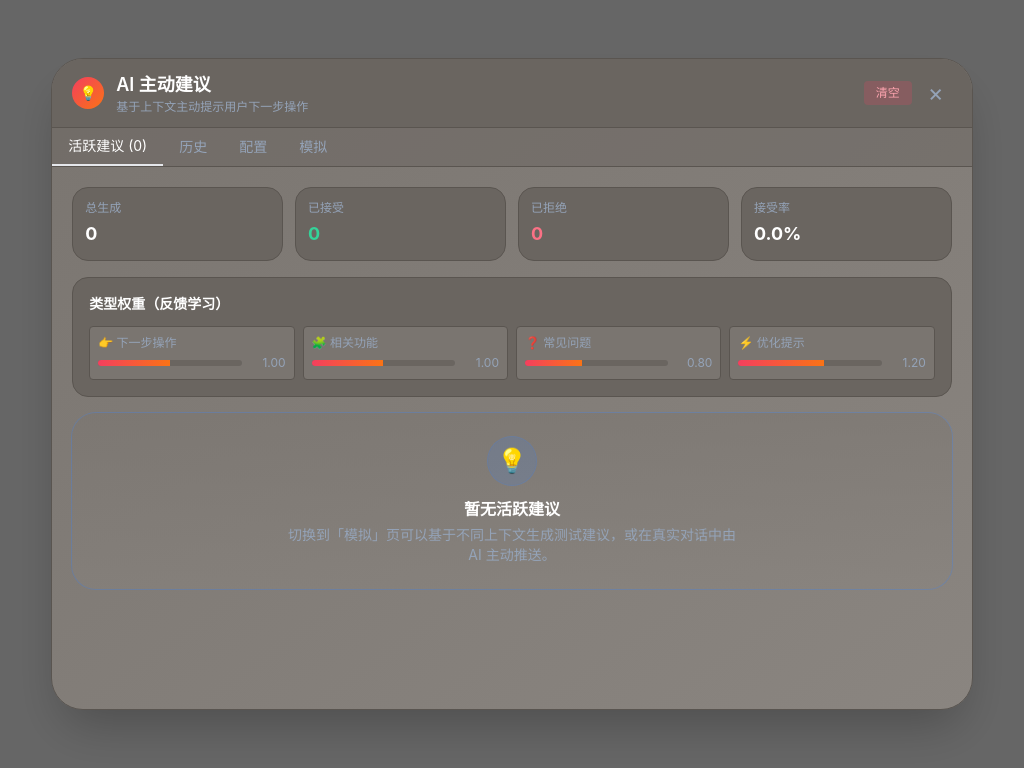
Test: ProactiveSuggestionPanel › 点击历史标签页应显示历史
Step 1. Click the button with test id "suggestion-tab-history" → (193, 147), box [163, 128, 223, 166]
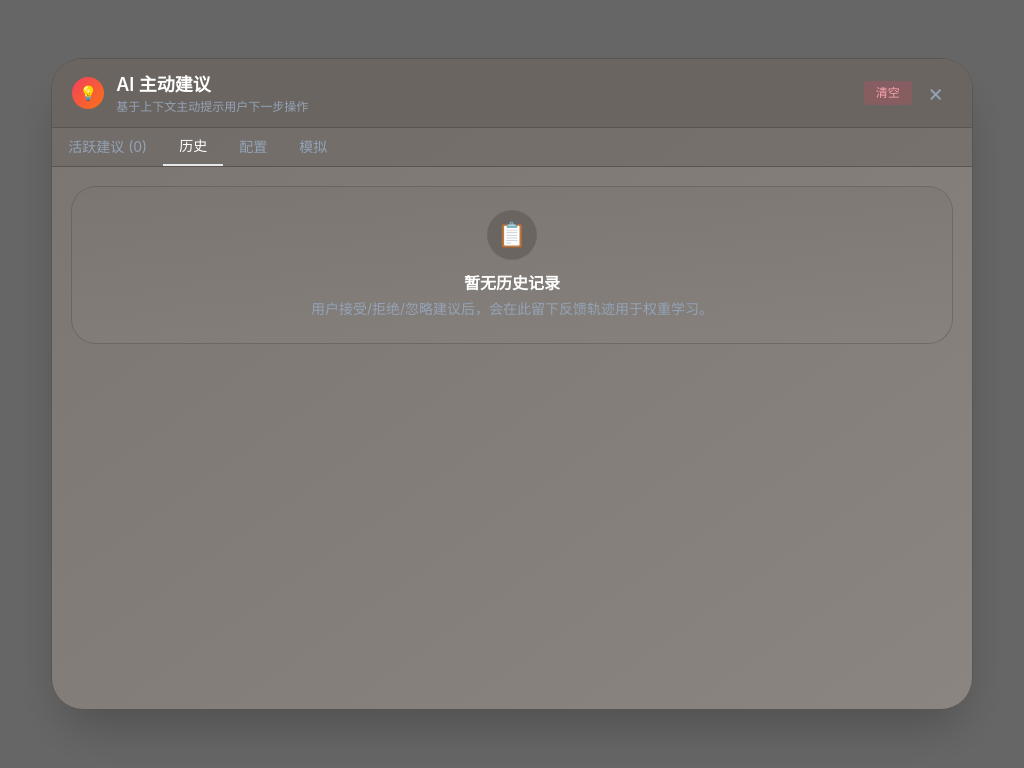
Expected: the heading "暂无历史记录" is shown, [464, 271, 560, 295]
